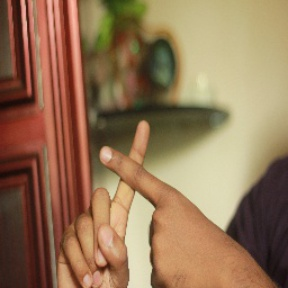X: (73, 117, 197, 252)
